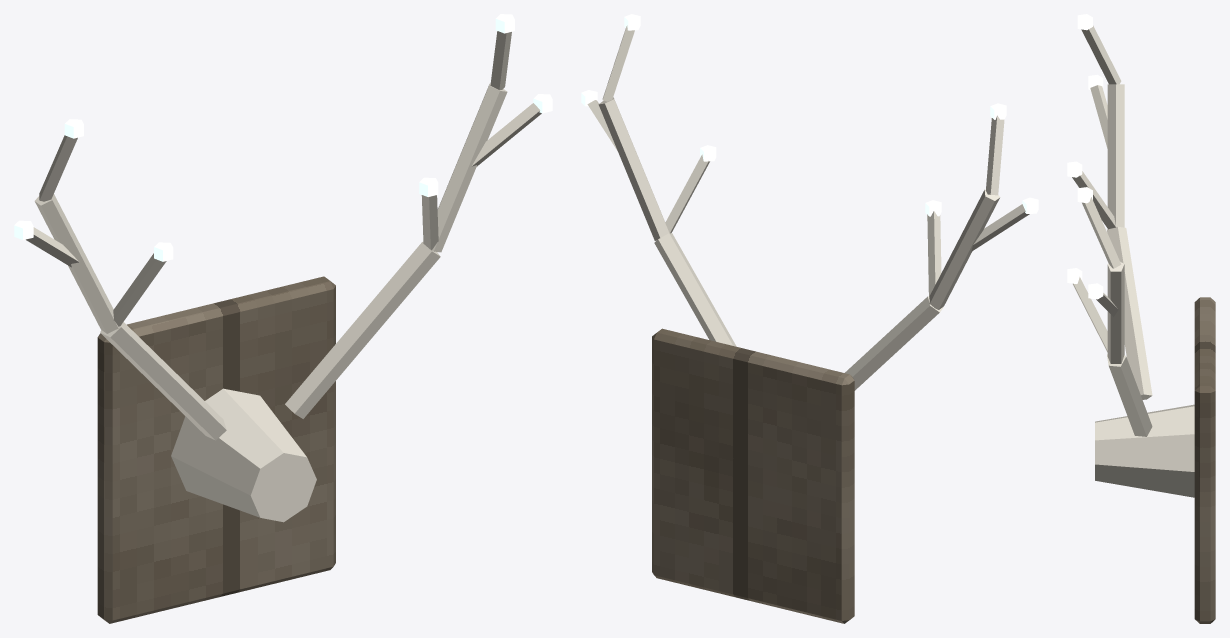
The model's file is trophy_antlers.glb.
The picture shows the model from 3 angles, left to right: view 1: azimuth 30°, elevation 25°; view 2: azimuth 150°, elevation 25°; view 3: azimuth 270°, elevation 25°; orthographic projection. The views are drawn at different scales.
Visible parts, largest first — view 1: body; view 2: body; view 3: body.
Boxes of the visible parts, <box> form: body: <box>14,14,552,623</box>; body: <box>581,14,1038,623</box>; body: <box>1067,14,1215,623</box>.
Bounding box in the file's own units: 0.9704 × 1 × 0.2829.
Materials: 3 (1 with a texture image).
